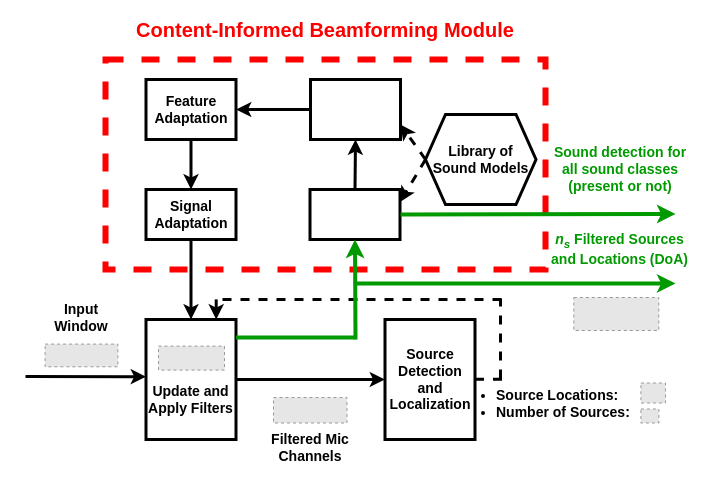
Image size: 713x484. Some labels were removed from this diagram. Grey dashed boxes stand in for pictures. Each missing label, with the centre of its shape:
"Acoustic Detection" goes at (354,214).
"Model Adaptation" goes at (355,109).
